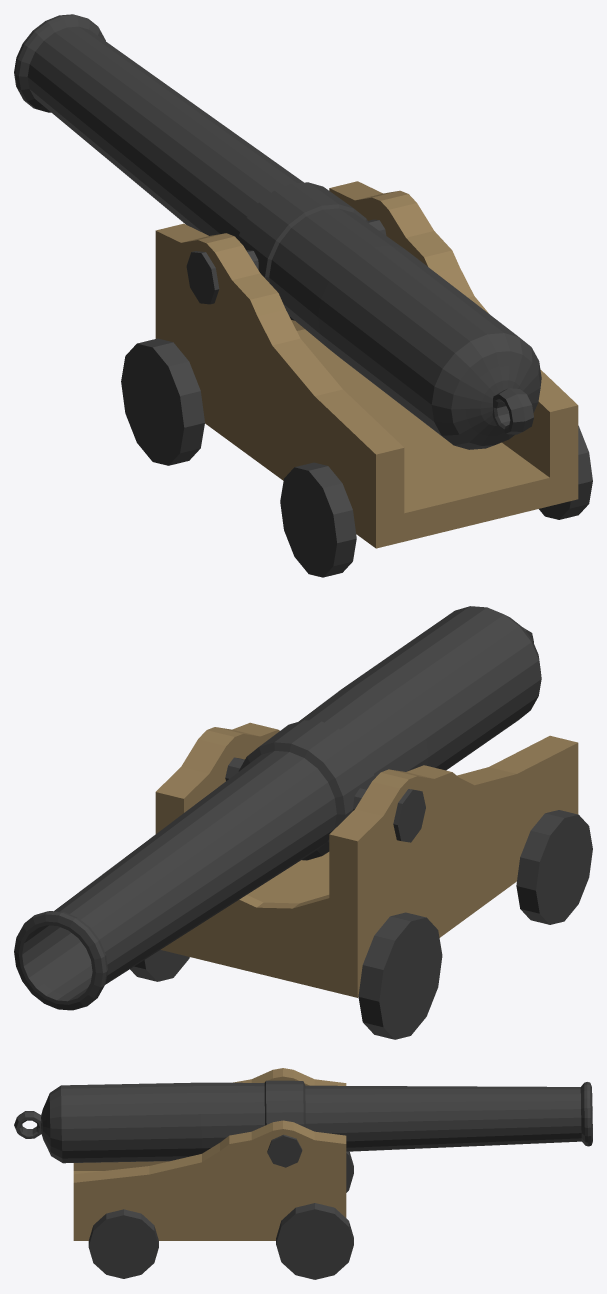
File: Cannon type 1.fbx
The picture shows the model from 3 angles, top to bottom: view 1: azimuth 30°, elevation 25°; view 2: azimuth 150°, elevation 25°; view 3: azimuth 270°, elevation 25°; orthographic projection. The views are drawn at different scales.
Visible parts, largest first — view 1: Cylinder.019, Cube.158, Cylinder.026, Cylinder.025, Cylinder.020; view 2: Cylinder.019, Cube.158, Cylinder.025, Cylinder.026, Cylinder.020; view 3: Cylinder.019, Cube.158, Cylinder.025, Cylinder.026, Cylinder.020.
Boxes of the visible parts, x1,y1,x2,y2 form: Cylinder.019: (14, 14, 541, 449); Cube.158: (155, 181, 578, 548); Cylinder.026: (280, 425, 592, 577); Cylinder.025: (121, 338, 204, 465); Cylinder.020: (186, 219, 386, 304); Cylinder.019: (14, 606, 541, 1010); Cube.158: (155, 722, 578, 997); Cylinder.025: (130, 912, 442, 1039); Cylinder.026: (516, 810, 592, 924); Cylinder.020: (225, 757, 425, 842); Cylinder.019: (14, 1080, 592, 1163); Cube.158: (73, 1068, 346, 1240); Cylinder.025: (276, 1151, 353, 1279); Cylinder.026: (88, 1209, 158, 1278); Cylinder.020: (267, 1134, 302, 1167).
Bounding box in the file's own units: 0.8833 × 0.83 × 2.78.
